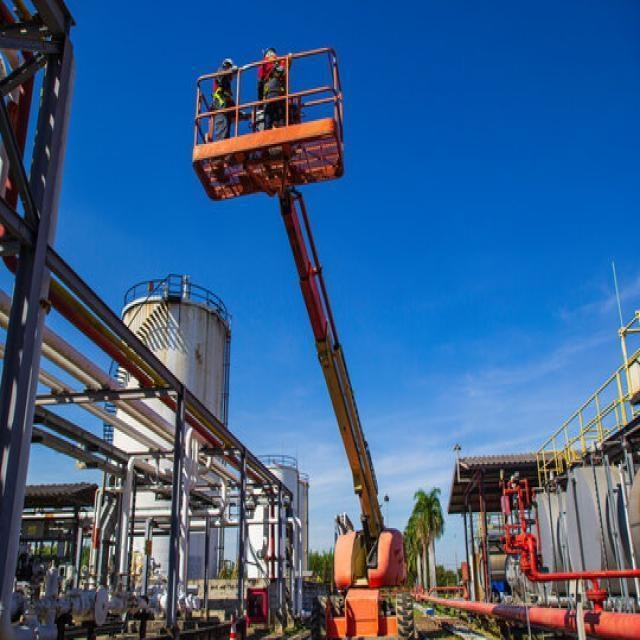Arnes_seguridad: (264, 55, 284, 94)
